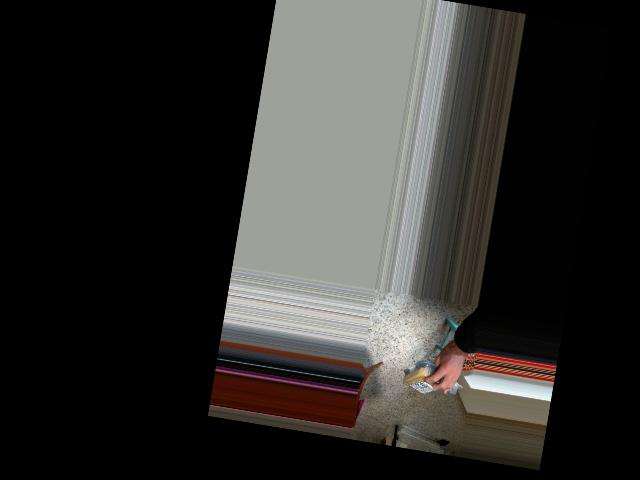cheese: (399, 361, 448, 398)
